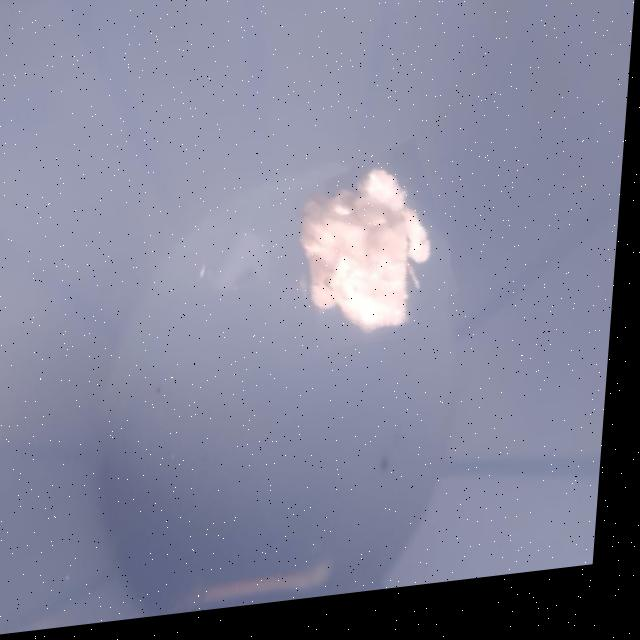thermocoal: (277, 154, 462, 362)
